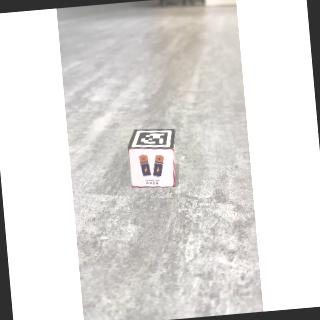Used_Battery: (129, 149, 177, 190)
